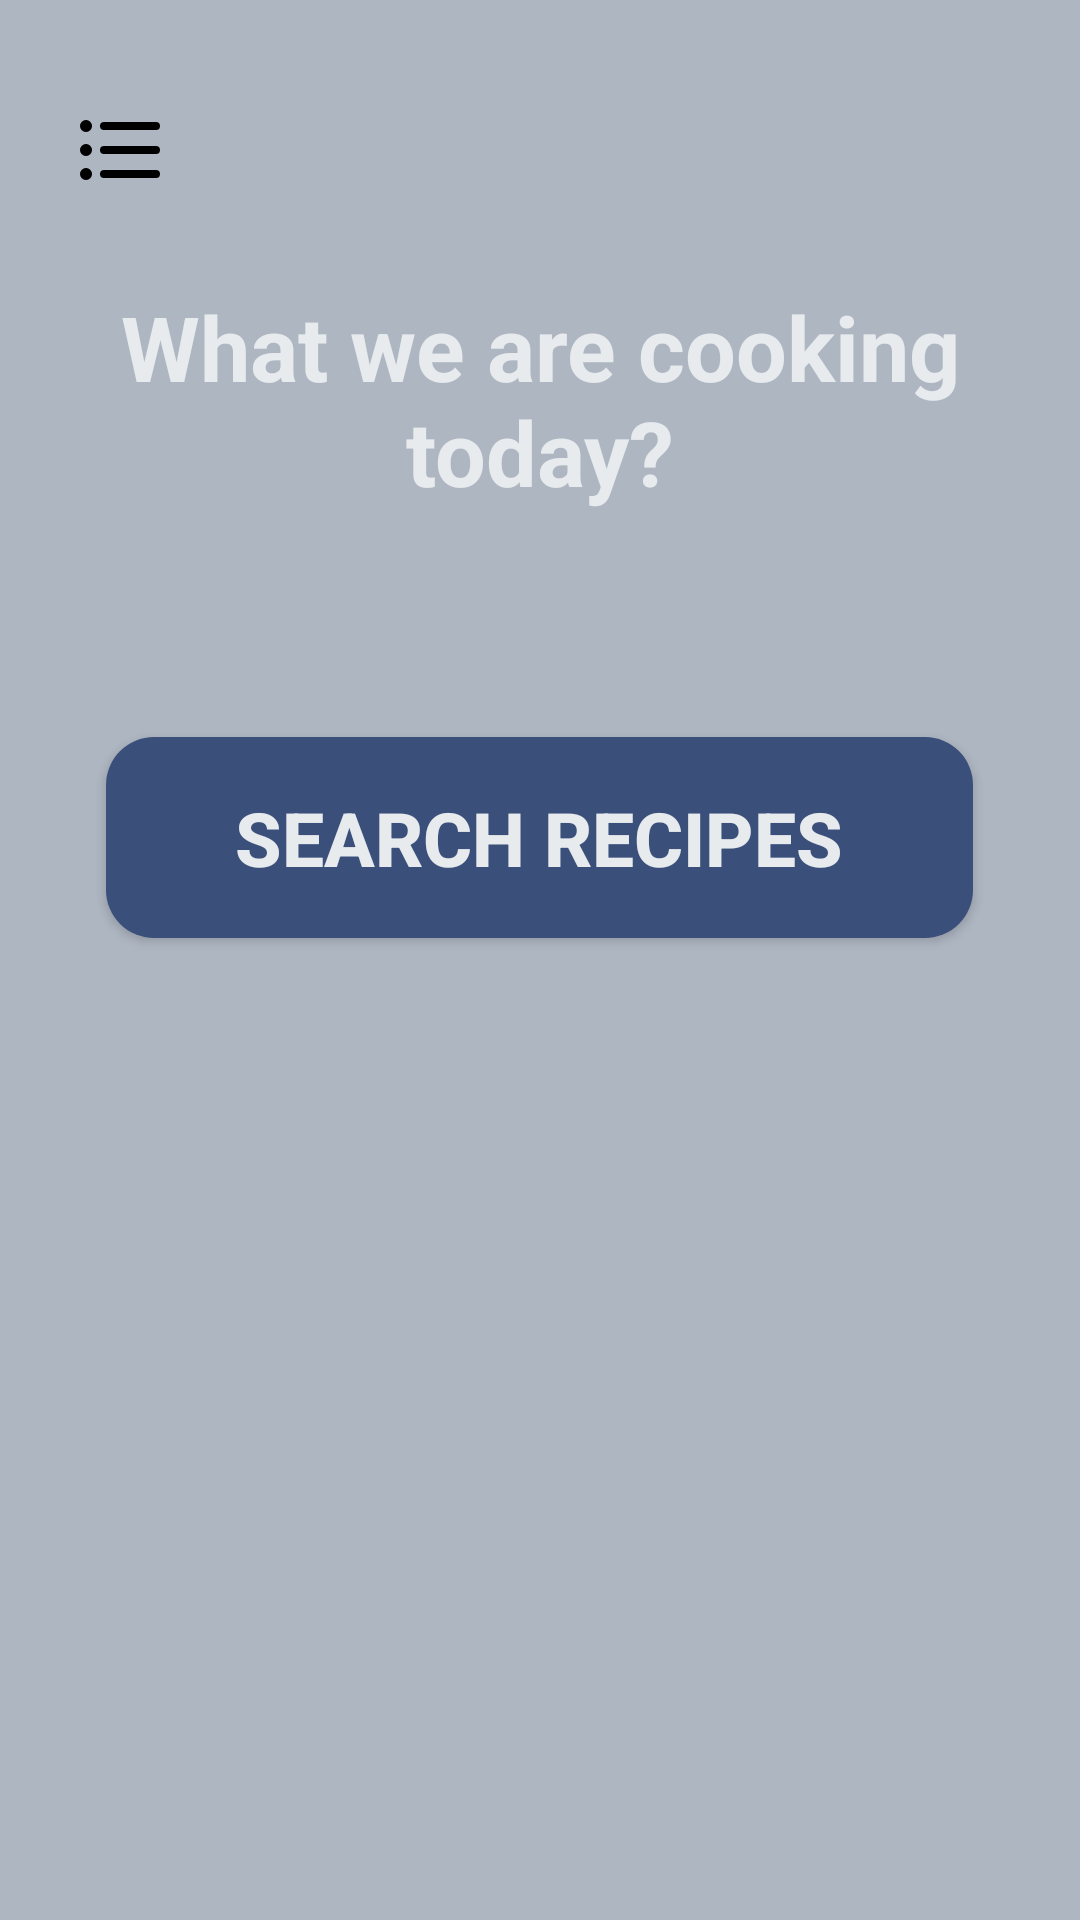

Screen size 1080w x 1920h. Icon name, then its box in pixels as bbox=[x1, y1, x2, y2]:
Otwórz menu: bbox=[80, 120, 160, 180]
